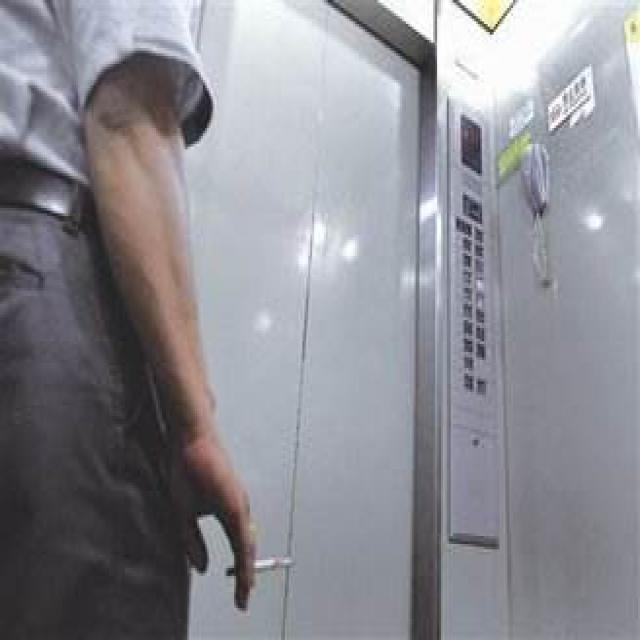cigarette: (226, 544, 293, 583)
